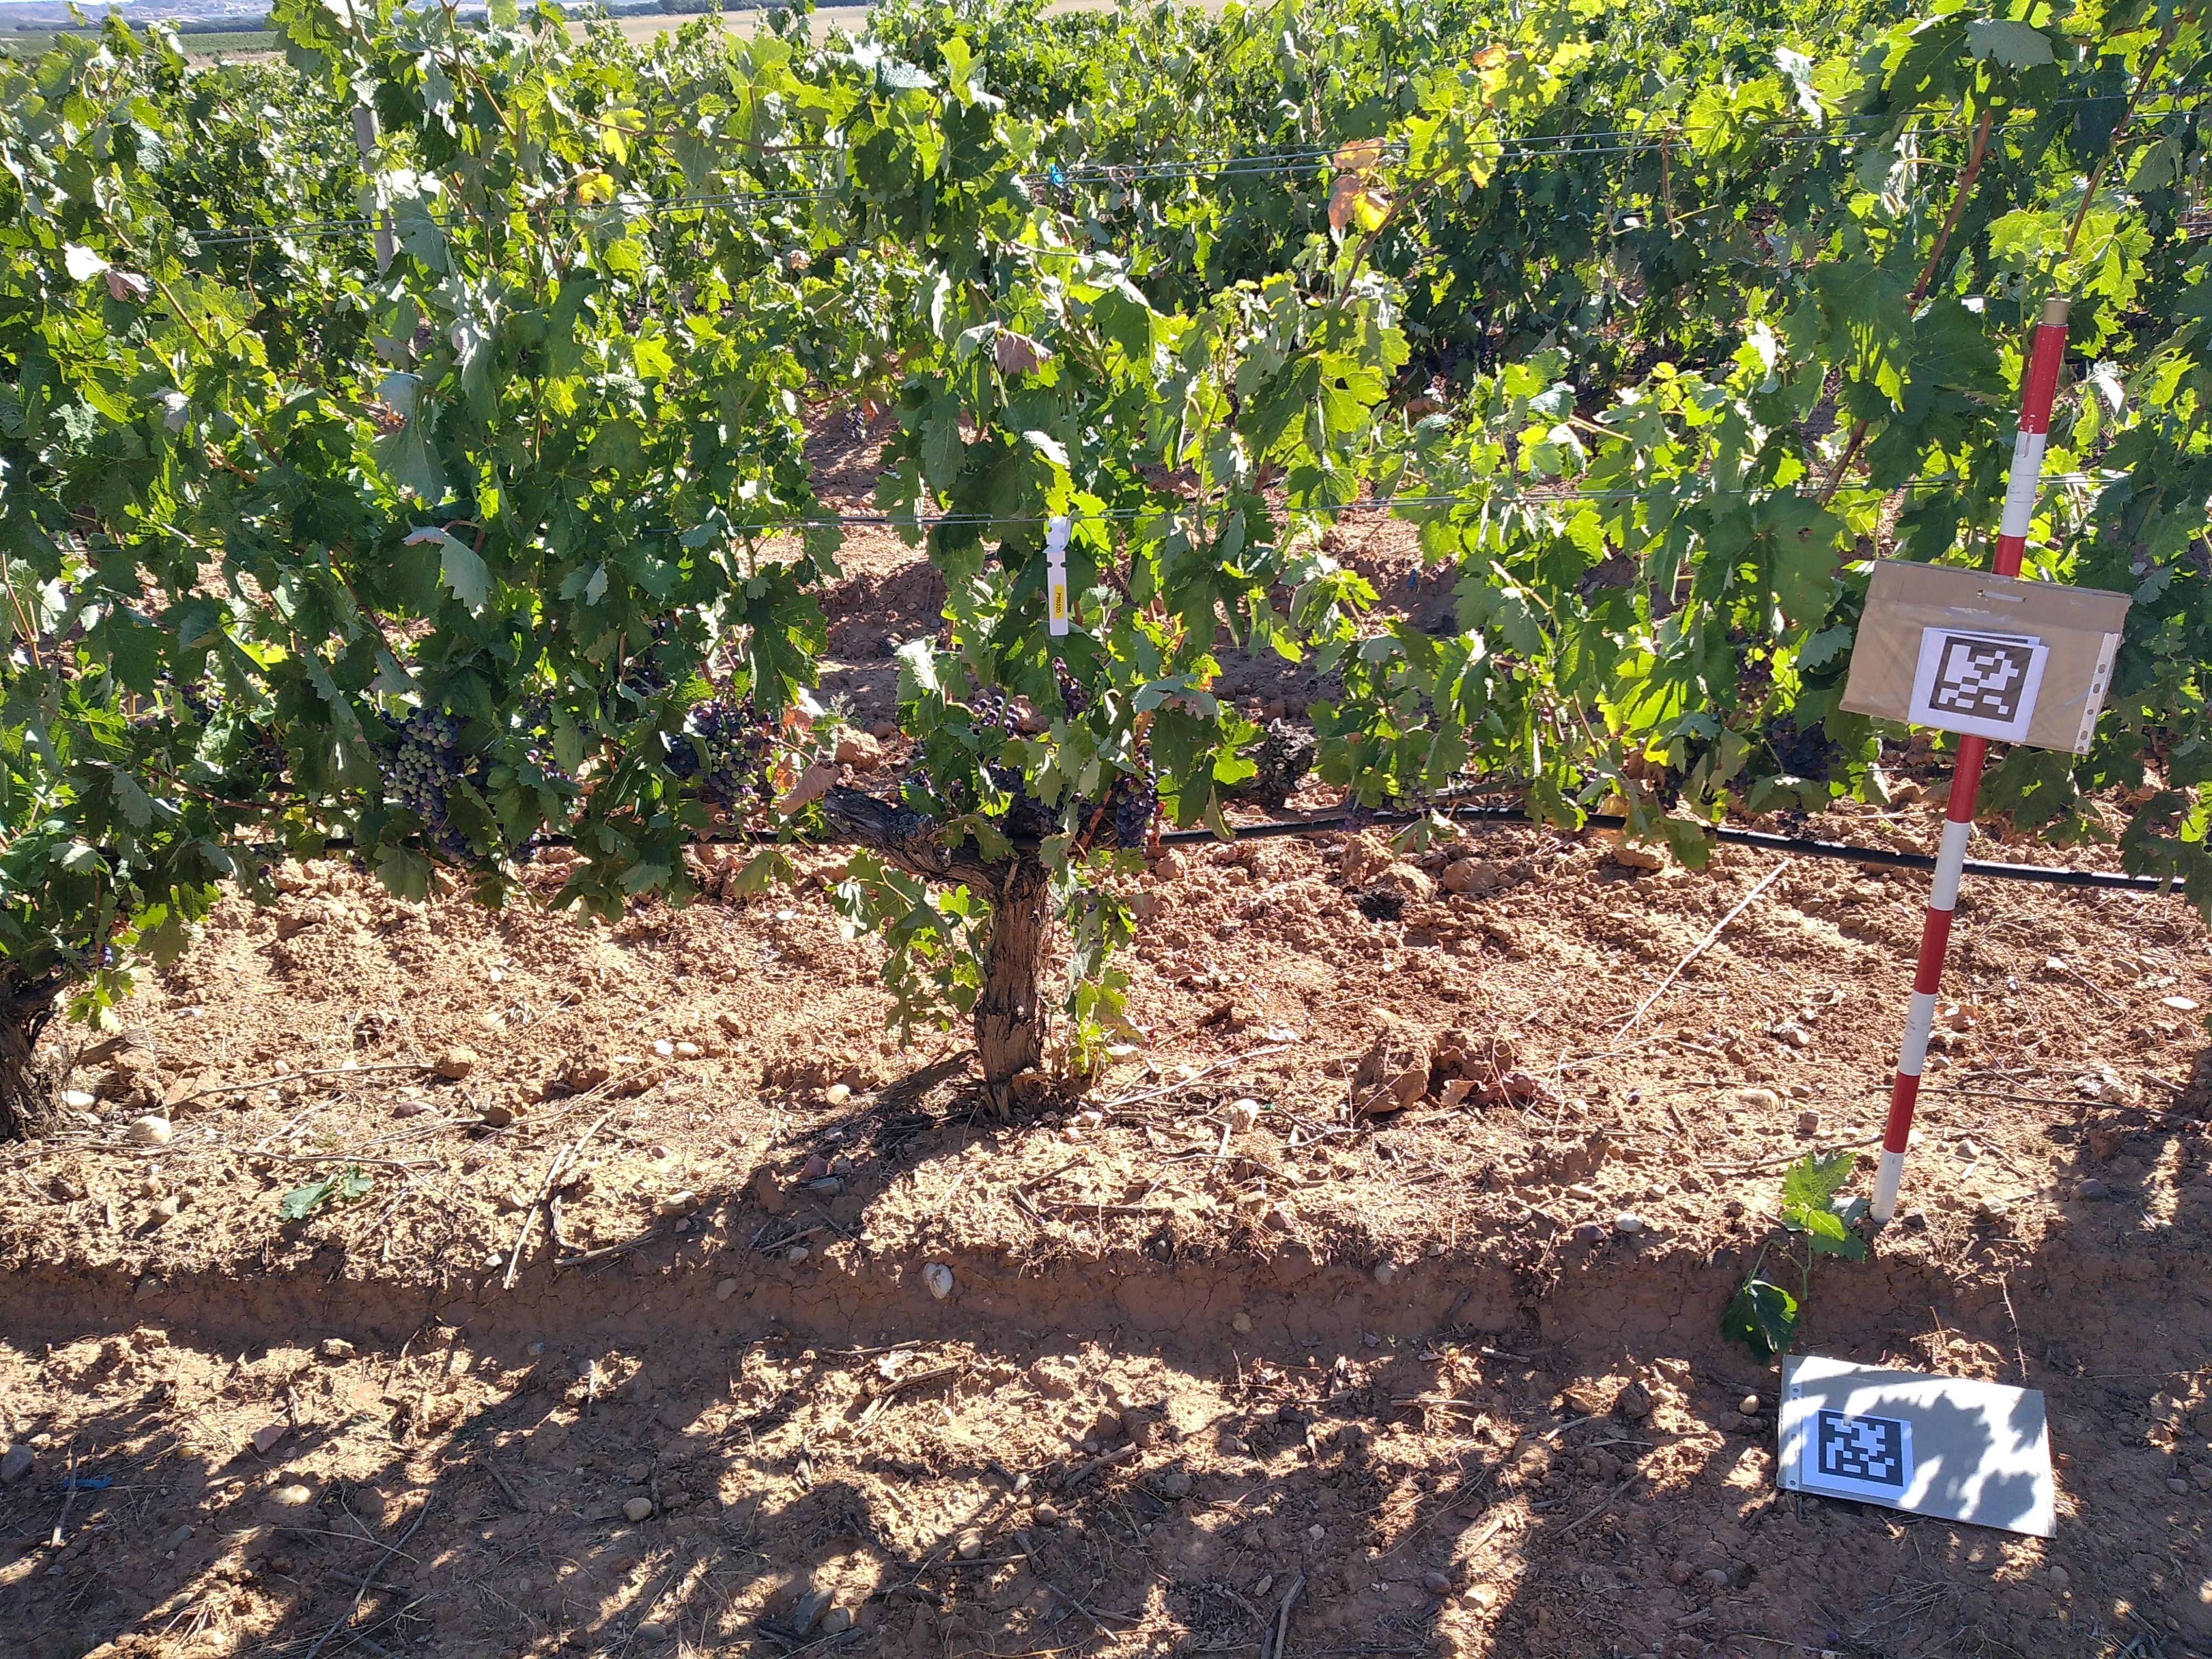0: (380, 708, 479, 870), (667, 695, 779, 836), (1763, 713, 1843, 782), (1109, 746, 1157, 847), (991, 763, 1061, 821), (1653, 737, 1710, 807), (1731, 633, 1775, 709), (1379, 765, 1439, 817), (181, 667, 223, 725), (1052, 659, 1087, 720), (622, 652, 669, 695), (1332, 795, 1374, 840), (251, 840, 289, 875), (519, 688, 550, 728), (507, 835, 538, 870), (972, 694, 1003, 727), (75, 941, 111, 967), (1719, 769, 1752, 795), (1073, 798, 1104, 817)
qr: (1933, 638, 2026, 720)
